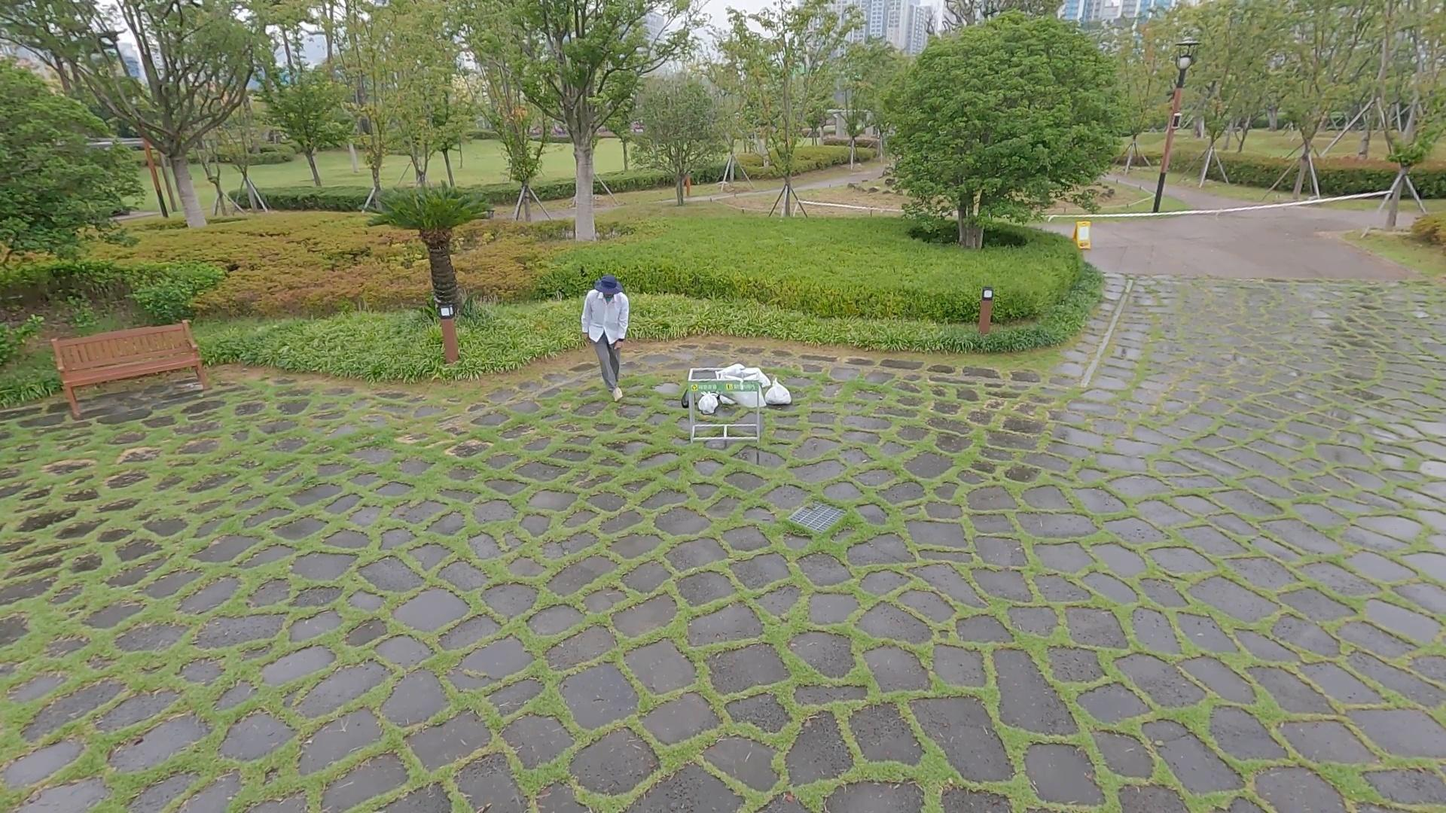trash: (582, 274, 630, 405), (763, 377, 792, 406), (697, 391, 719, 414), (681, 389, 695, 408), (721, 394, 737, 407)
